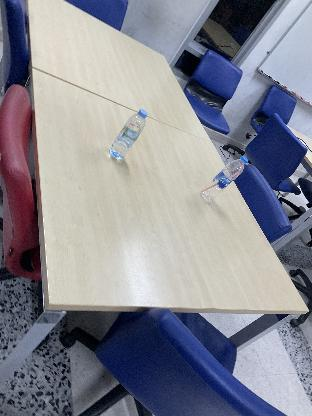Plastic Bottle: (200, 154, 248, 206), (106, 108, 148, 164)
